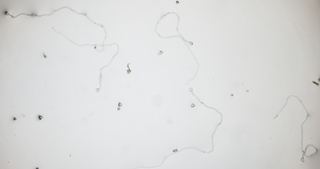germinated: (187, 85, 197, 96), (93, 81, 103, 92), (3, 9, 14, 19), (184, 38, 195, 46), (299, 152, 307, 162), (124, 65, 132, 74)
nongerminated: (115, 100, 124, 108), (36, 113, 44, 122), (11, 115, 19, 123), (157, 49, 166, 56), (189, 101, 196, 109), (173, 0, 180, 6)
